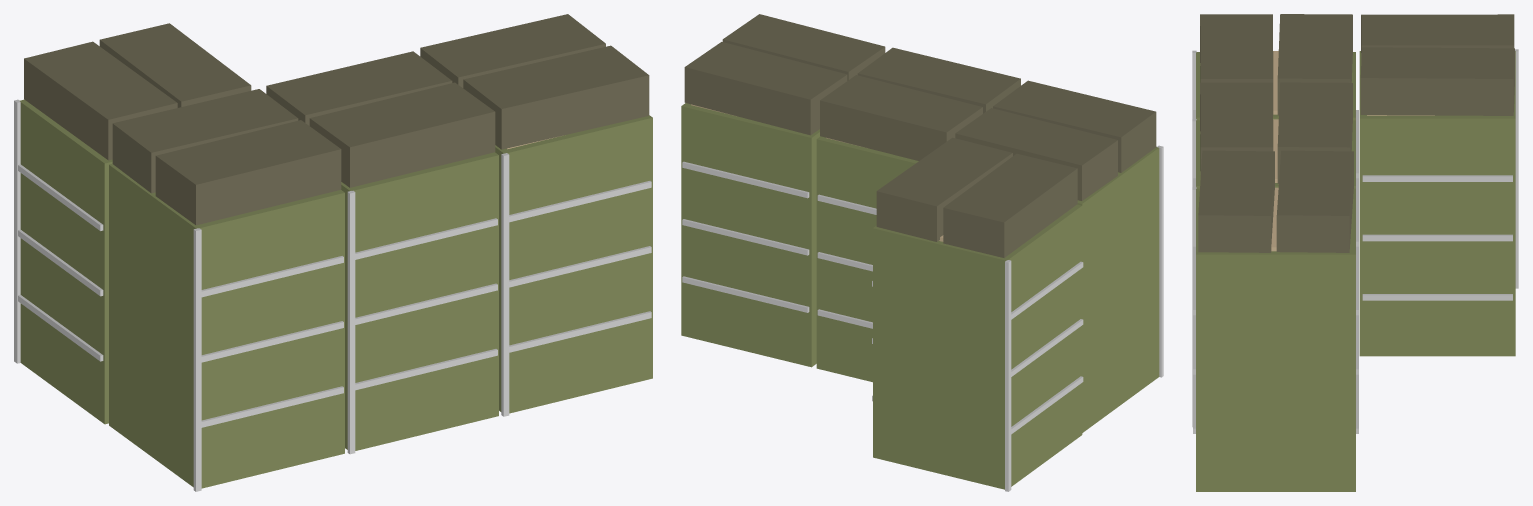
File: SM_HescoRemate_v3_RemateSacos_e0_Sano_LOD0.fbx
3 views of the same model, side by side, from view 1: azimuth 30°, elevation 25°; view 2: azimuth 150°, elevation 25°; view 3: azimuth 270°, elevation 25° (orthographic). The views are drawn at different scales.
Visible parts, largest first — view 1: SM_hesco_piezas_v32_LOD0; view 2: SM_hesco_piezas_v32_LOD0; view 3: SM_hesco_piezas_v32_LOD0.
Boxes of the visible parts, box(x1,y1,x2,y2) form: SM_hesco_piezas_v32_LOD0: box(14, 14, 652, 491); SM_hesco_piezas_v32_LOD0: box(681, 14, 1163, 491); SM_hesco_piezas_v32_LOD0: box(1192, 14, 1518, 491).
Bounding box in the file's own units: 3.33 × 2.09 × 2.24.
